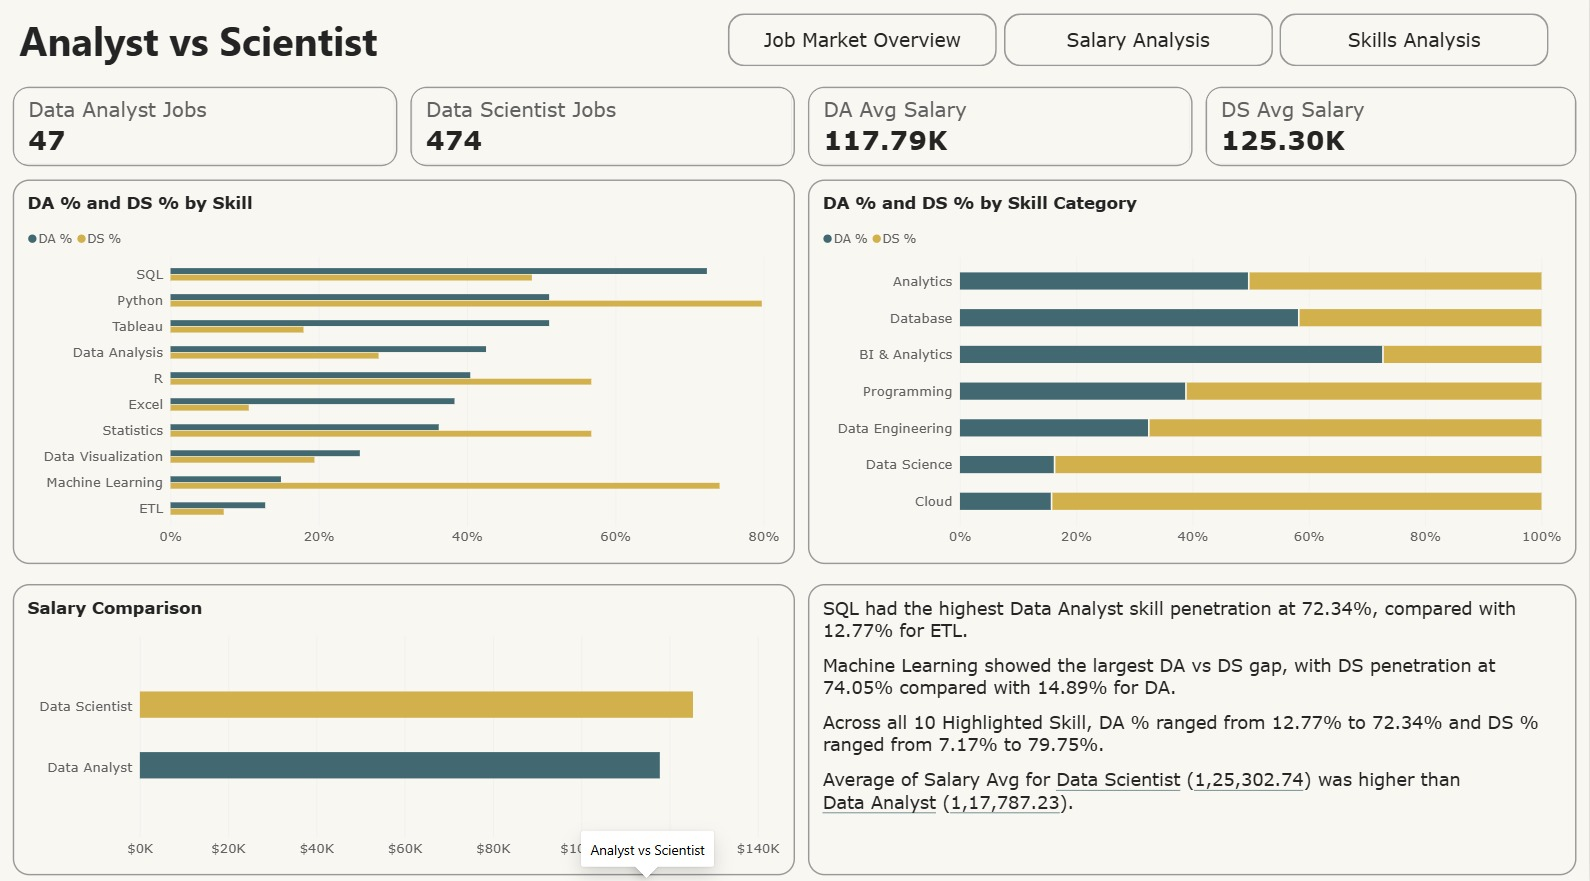

Layout of this report page (visuals, bound fields, positions):
{"tool":"powerbi","page":{"name":"Analyst vs Scientist","canvas":[1920,1080],"ordinal":3},"visuals":[{"type":"cardVisual","title":"Data Analyst Jobs","fields":{"Data":["Measures Table.Data Analyst Jobs"]},"box":[16,120.3,464,96],"z":0},{"type":"cardVisual","fields":{"Data":["Measures Table.Data Scienctist Jobs"]},"box":[496,120.3,464,96],"z":1000},{"type":"cardVisual","fields":{"Data":["Measures Table.DA Avg Salary"]},"box":[976,120.3,464,96],"z":2000},{"type":"cardVisual","fields":{"Data":["Measures Table.DS Avg Salary"]},"box":[1456,120.3,448,96],"z":3000},{"type":"clusteredBarChart","fields":{"Category":["skill_dim.Skill"],"Y":["Measures Table.DA %","Measures Table.DS %"]},"box":[16,232.3,944,464],"z":4000},{"type":"hundredPercentStackedBarChart","fields":{"Category":["skill_dim.Skill Category"],"Y":["Measures Table.DA %","Measures Table.DS %"]},"box":[976,232.3,928,464],"z":5000},{"type":"clusteredBarChart","title":"Salary Comparison","fields":{"Category":["job_postings.Job Short Title"],"Y":["Avg(job_postings.Salary Avg)"]},"box":[16,720,944,352],"z":6000},{"type":"textbox","box":[976,720,928,352],"z":7000},{"type":"textbox","box":[16,32,448,96],"z":8000},{"type":"pageNavigator","box":[880,32,992,64],"z":9000}]}

Visuals, with their boxes in screenshot pixels (x1, y1, x2, y2), scaled from the page's 1920x1080 canvas onto the 1590x881 screenshot:
"Data Analyst Jobs" cardVisual: box(13, 98, 398, 176)
cardVisual - Measures Table.Data Scienctist Jobs: box(411, 98, 795, 176)
cardVisual - Measures Table.DA Avg Salary: box(808, 98, 1192, 176)
cardVisual - Measures Table.DS Avg Salary: box(1206, 98, 1577, 176)
clusteredBarChart - skill_dim.Skill x Measures Table.DA %: box(13, 189, 795, 568)
hundredPercentStackedBarChart - skill_dim.Skill Category x Measures Table.DA %: box(808, 189, 1577, 568)
"Salary Comparison" clusteredBarChart: box(13, 587, 795, 874)
textbox: box(808, 587, 1577, 874)
textbox: box(13, 26, 384, 104)
pageNavigator: box(729, 26, 1550, 78)
